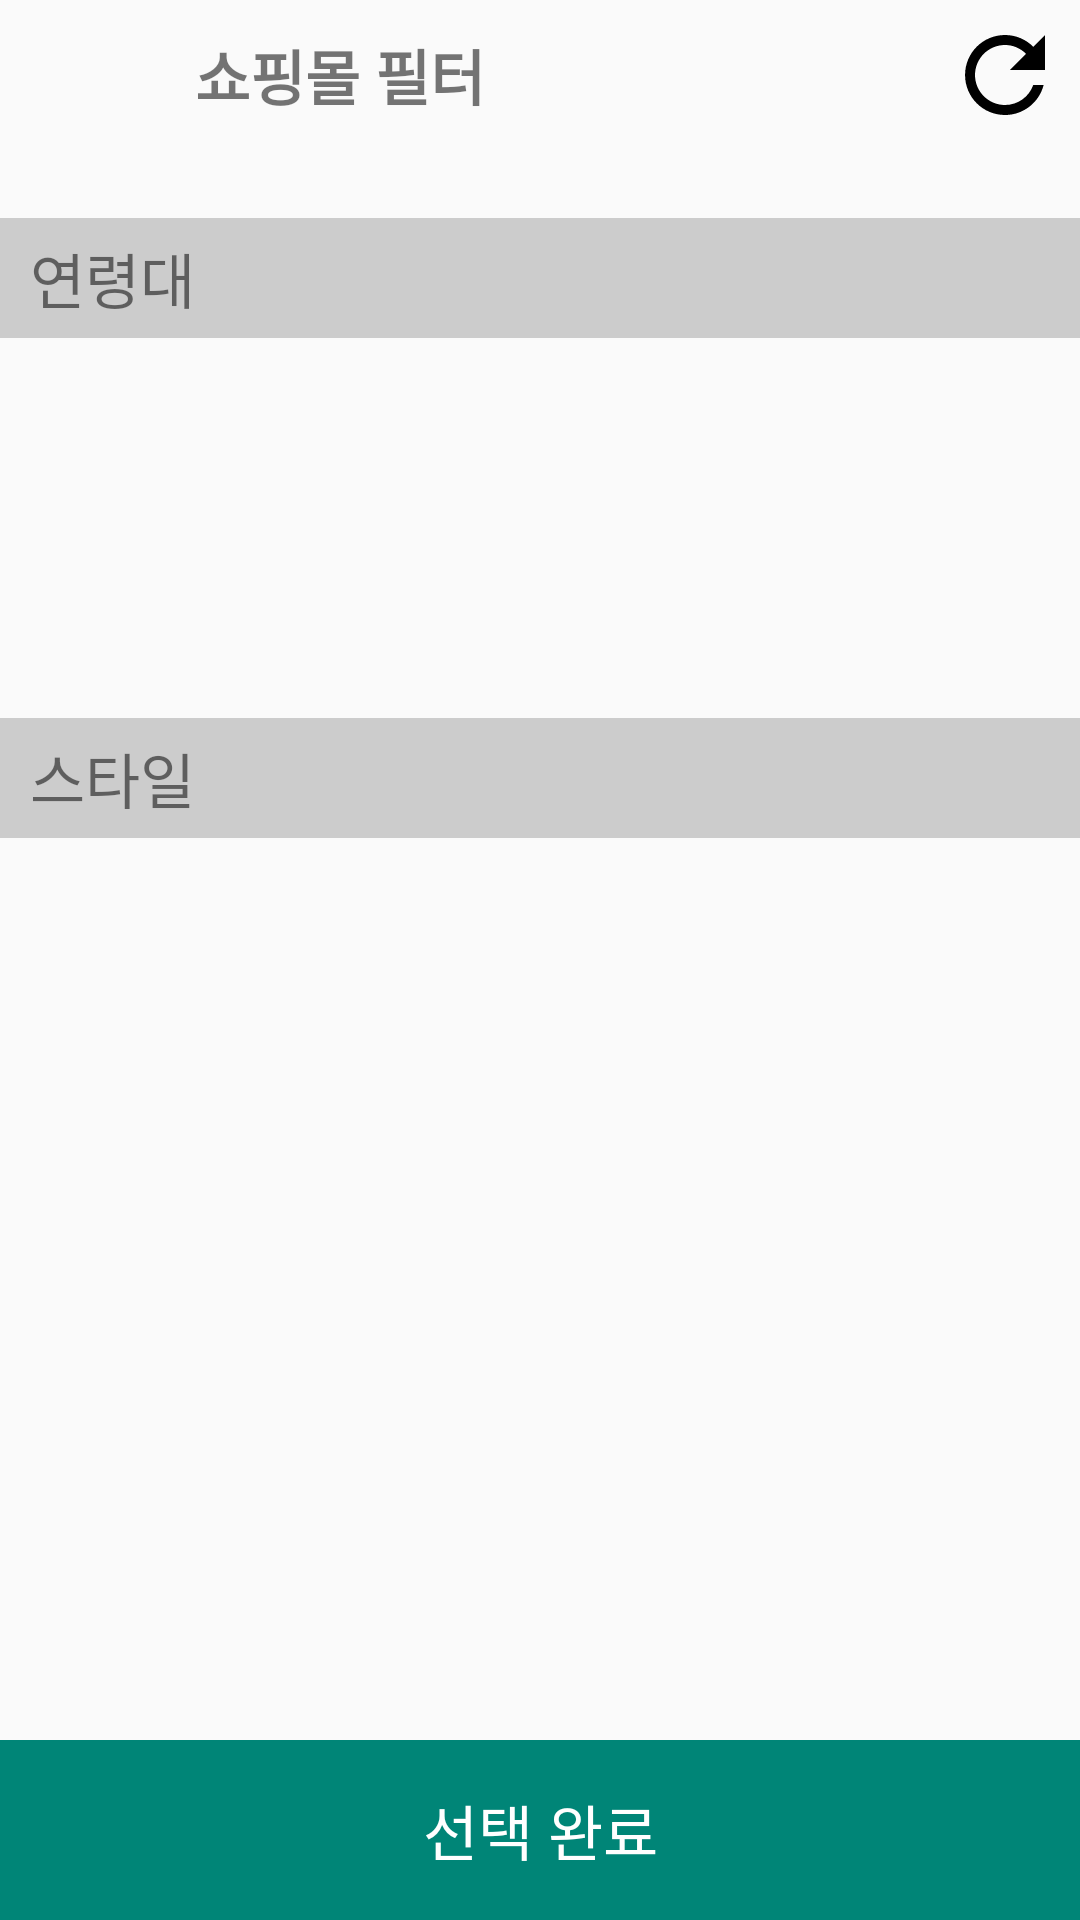

Where icons sit on this 1080px x 1920px app screen, as (x1, y1, x2, y2):
refresh: (965, 35, 1045, 115)
